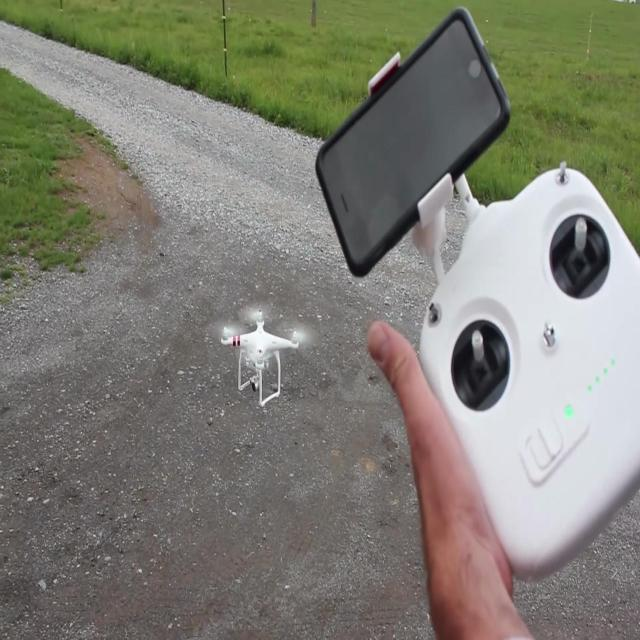drone: (217, 302, 308, 407)
